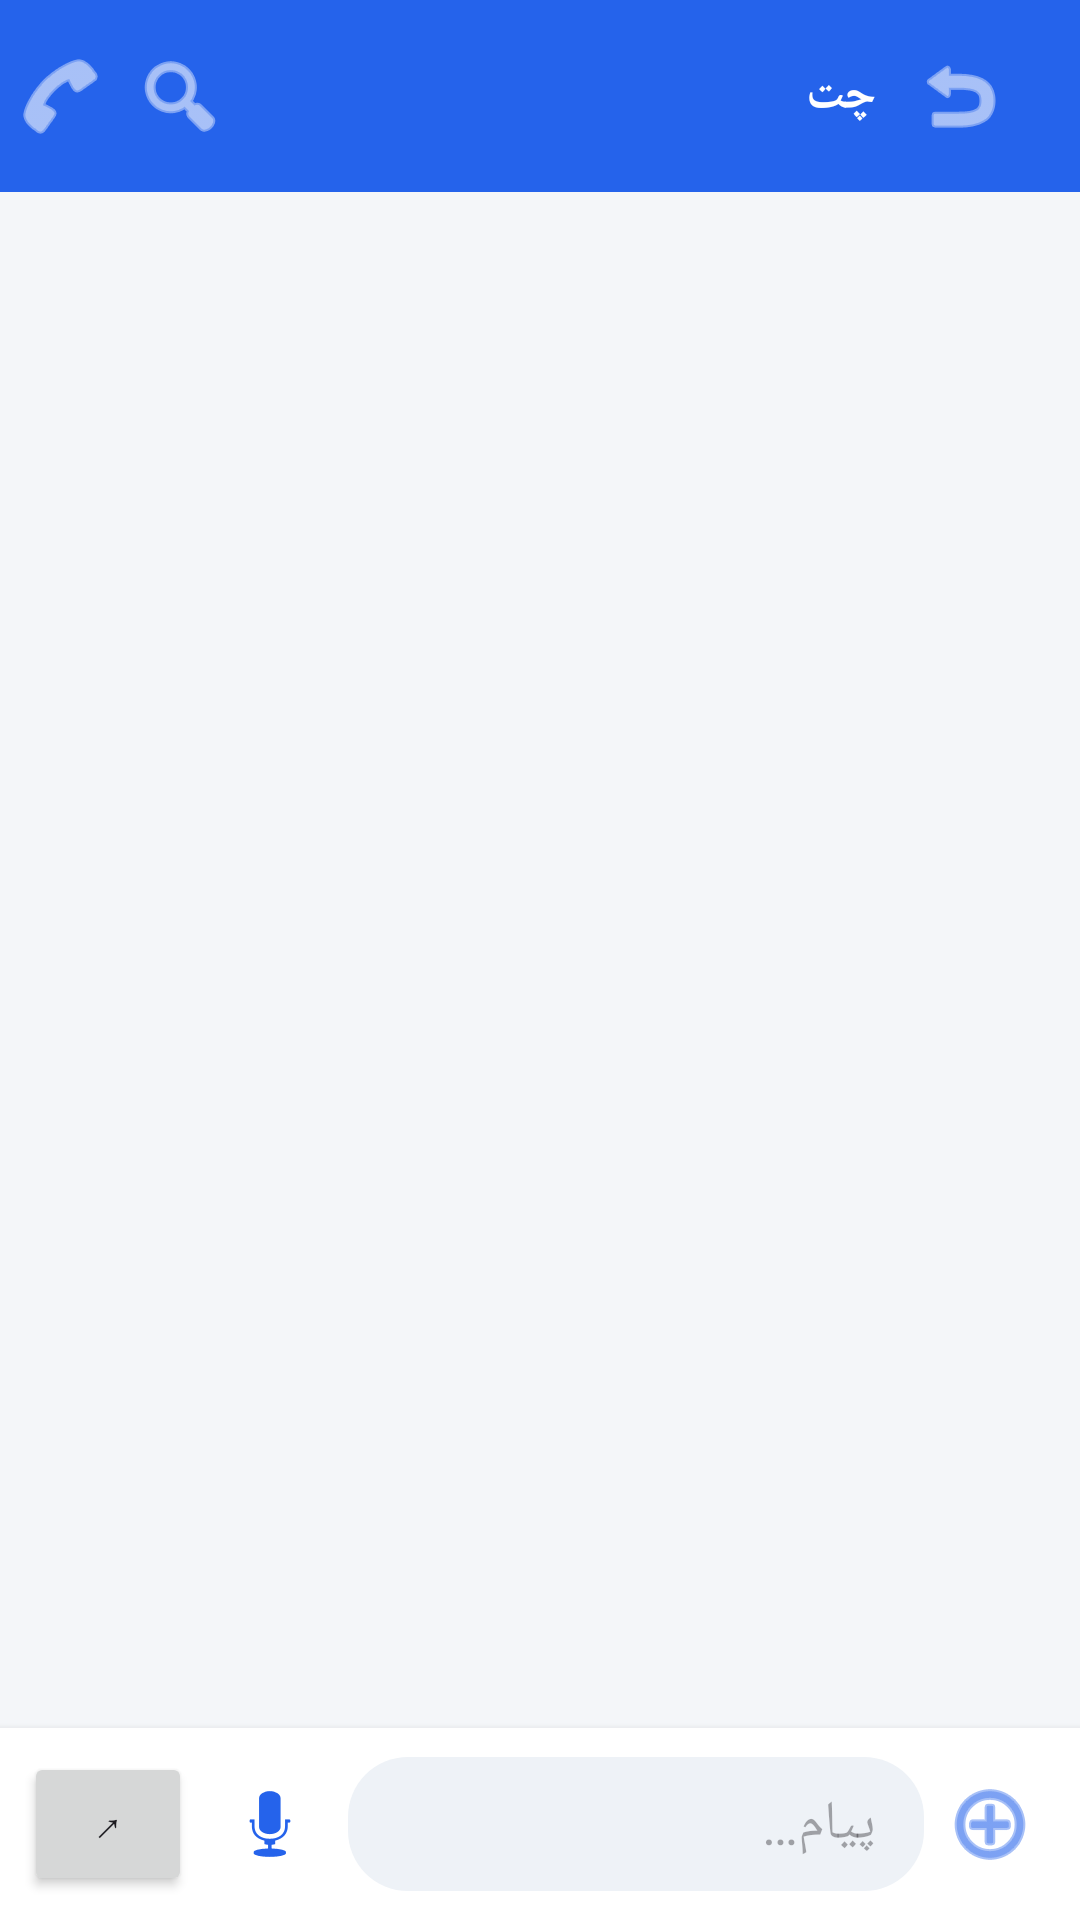

Named icons in this screenshot (1080 x 1920) and their centers, [x,y]:
add: [990,1824]
call: [60,96]
revert: [961,96]
search: [179,96]
speak now: [270,1824]
